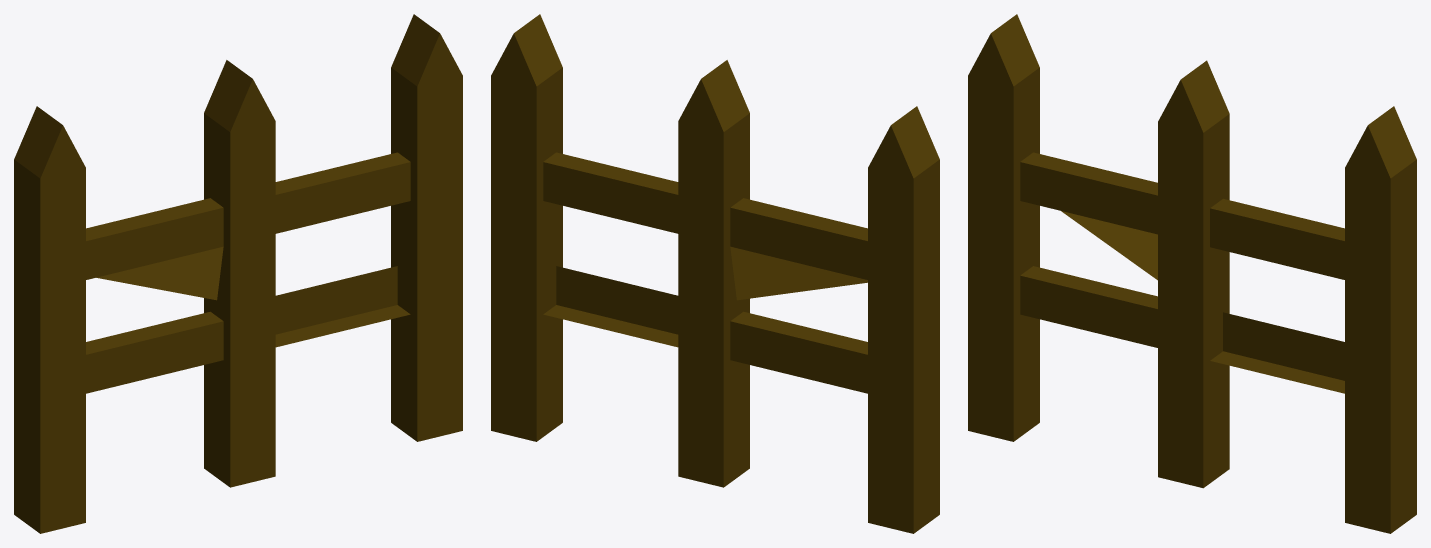
The model's file is fence.fbx.
The picture shows the model from 3 angles, left to right: view 1: azimuth 30°, elevation 25°; view 2: azimuth 150°, elevation 25°; view 3: azimuth 330°, elevation 25°; orthographic projection.
Visible parts, largest first — view 1: Cube; view 2: Cube; view 3: Cube.
Part boxes in pixels (x1,y1,x2,y2): Cube: (14,14,462,533); Cube: (491,14,939,533); Cube: (968,14,1416,533).
Bounding box in the file's own units: 322 × 294 × 34.69.
